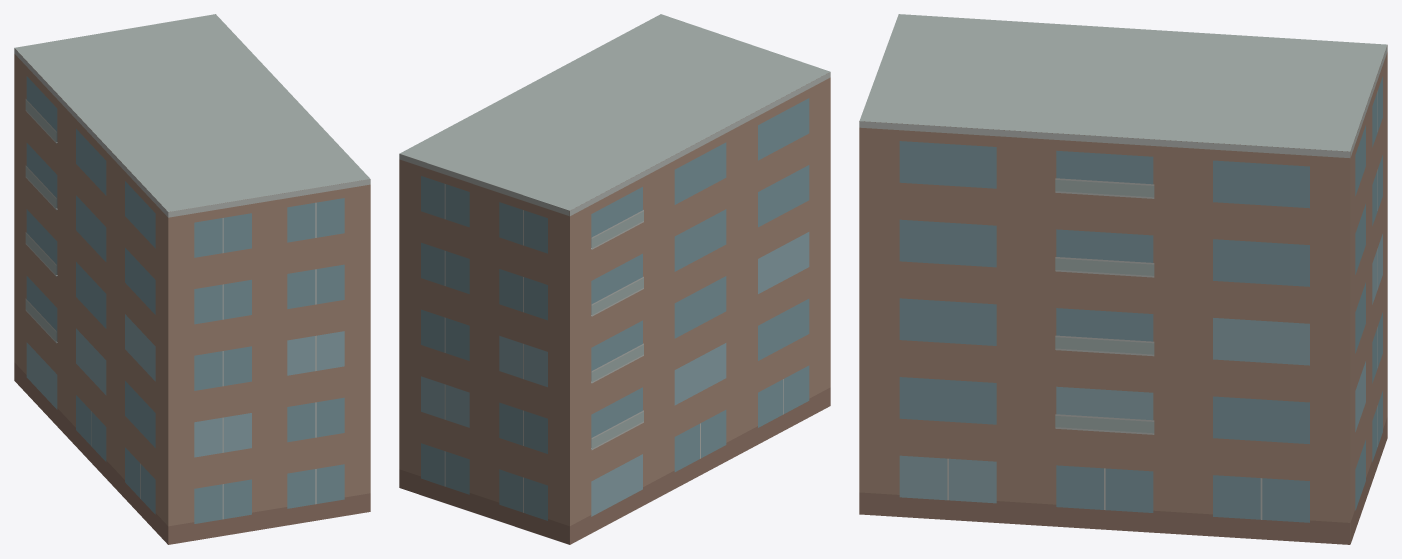
File: survey-upis-32919297.glb
The picture shows the model from 3 angles, left to right: view 1: azimuth 30°, elevation 25°; view 2: azimuth 150°, elevation 25°; view 3: azimuth 270°, elevation 25°; orthographic projection. The views are drawn at different scales.
Parts seen in each view (by area): view 1: survey-upis-32919297.tmp; view 2: survey-upis-32919297.tmp; view 3: survey-upis-32919297.tmp.
Boxes of the visible parts, box(x1,y1,x2,y2) form: survey-upis-32919297.tmp: box(14, 14, 370, 544); survey-upis-32919297.tmp: box(399, 14, 830, 544); survey-upis-32919297.tmp: box(859, 14, 1387, 544).
Bounding box in the file's own units: 10.89 × 14.5 × 17.66.
